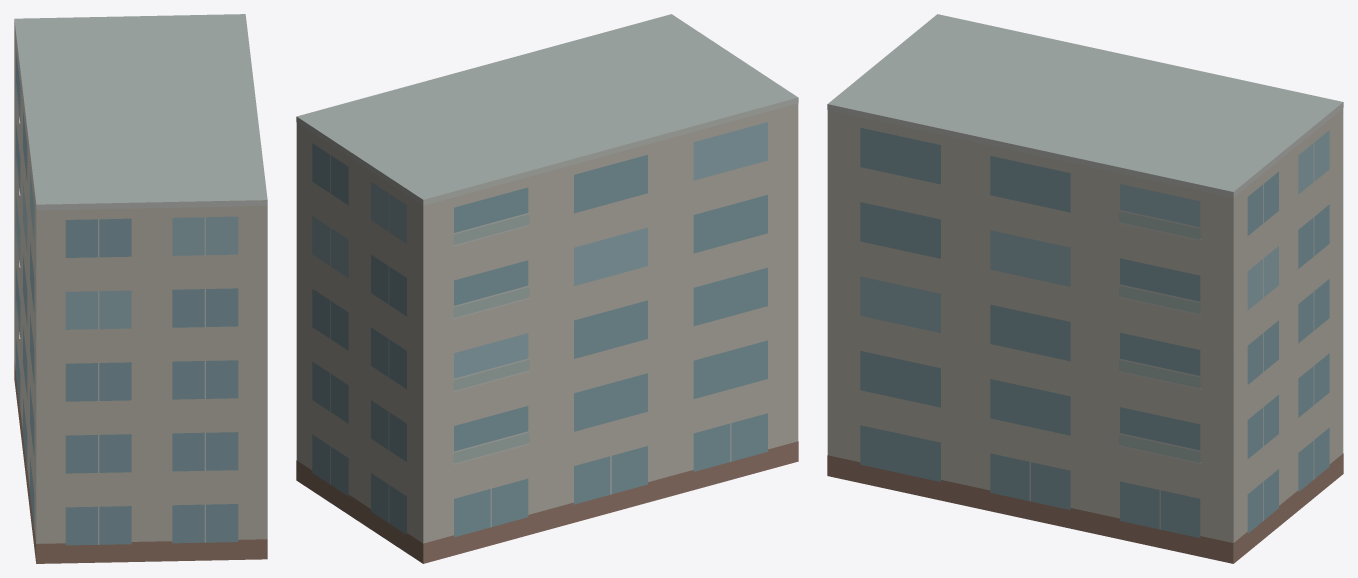
File: survey-upis-32525191.glb
3 renders of one model, left to right at view 1: azimuth 30°, elevation 25°; view 2: azimuth 150°, elevation 25°; view 3: azimuth 270°, elevation 25°, orthographic. The views are drawn at different scales.
Visible parts, largest first — view 1: survey-upis-32525191.tmp; view 2: survey-upis-32525191.tmp; view 3: survey-upis-32525191.tmp.
Part boxes in pixels (<box>): survey-upis-32525191.tmp: <box>14,14,267,563</box>; survey-upis-32525191.tmp: <box>296,14,798,563</box>; survey-upis-32525191.tmp: <box>827,14,1343,563</box>.
Bounding box in the file's own units: 15.66 × 15.25 × 19.18.
